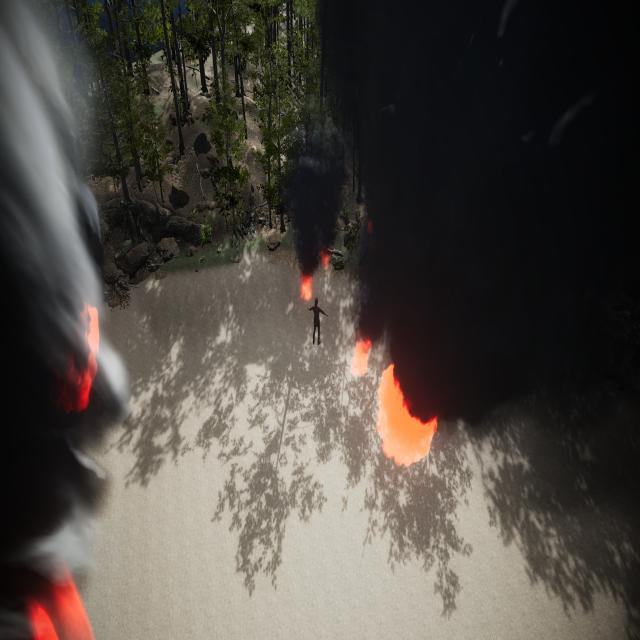Human: (304, 290, 330, 350)
